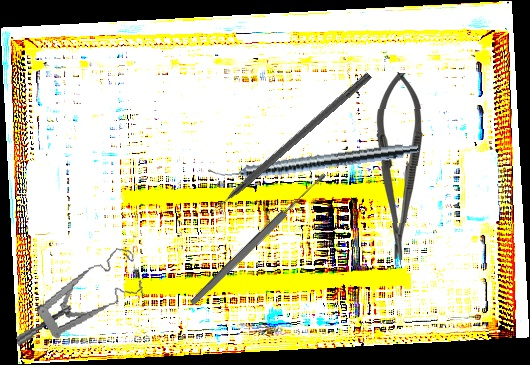Handpiece: (207, 137, 420, 186)
Hook Surgical: (204, 70, 373, 218)
Needle Holder: (372, 72, 425, 260)
Speculum: (4, 245, 149, 347)
Surgical Spoon: (187, 170, 330, 308)
